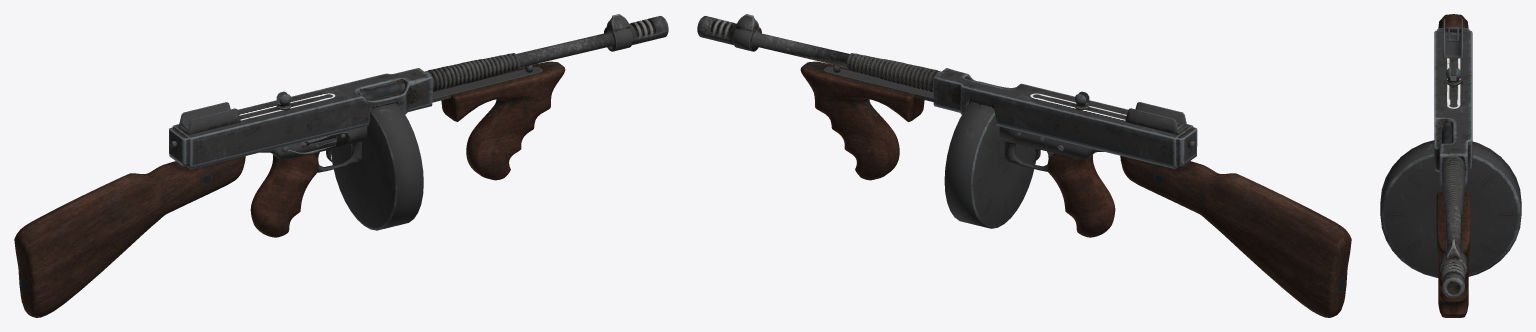
Rendered from m1a1_thompson.glb.
3 renders of one model, left to right at view 1: azimuth 30°, elevation 25°; view 2: azimuth 150°, elevation 25°; view 3: azimuth 270°, elevation 25°, orthographic. The views are drawn at different scales.
Parts seen in each view (by area): view 1: Plane.001, Plane.006, Cylinder.003_Cylinder.004, Plane.003, Cylinder, Plane, Plane.004, Plane.005, Cylinder.006_Cylinder.007, Cube; view 2: Plane.001, Plane.006, Cylinder.003_Cylinder.004, Plane.003, Cylinder, Plane, Plane.004, Plane.005, Cube; view 3: Cylinder.003_Cylinder.004, Plane.006, Cylinder, Plane.003, Plane.005, Plane.001, Cylinder.002_Cylinder.003, Cylinder.006_Cylinder.007.
Part boxes in pixels (<box>): Plane.001: <box>14,156,245,317</box>; Plane.006: <box>169,68,432,168</box>; Cylinder.003_Cylinder.004: <box>331,103,423,230</box>; Plane.003: <box>441,61,565,180</box>; Cylinder: <box>425,14,668,91</box>; Plane: <box>250,154,318,237</box>; Plane.004: <box>246,126,367,172</box>; Plane.005: <box>178,102,240,134</box>; Cylinder.006_Cylinder.007: <box>283,82,404,154</box>; Cube: <box>432,67,542,102</box>; Plane.001: <box>1120,155,1351,317</box>; Plane.006: <box>933,68,1197,168</box>; Cylinder.003_Cylinder.004: <box>944,103,1035,228</box>; Plane.003: <box>800,61,924,180</box>; Cylinder: <box>697,14,940,91</box>; Plane: <box>1047,153,1115,237</box>; Plane.004: <box>999,126,1104,171</box>; Plane.005: <box>1125,102,1187,134</box>; Cube: <box>824,66,933,101</box>; Cylinder.003_Cylinder.004: <box>1380,140,1521,277</box>; Plane.006: <box>1434,28,1472,185</box>; Cylinder: <box>1440,155,1466,298</box>; Plane.003: <box>1436,192,1470,317</box>; Plane.005: <box>1443,19,1462,58</box>; Plane.001: <box>1438,14,1468,28</box>; Cylinder.002_Cylinder.003: <box>1446,67,1461,85</box>; Cylinder.006_Cylinder.007: <box>1442,123,1451,143</box>.
Size of the model in its own units: 2 by 0.4841 by 0.3632.
12 materials, 12 textured.
